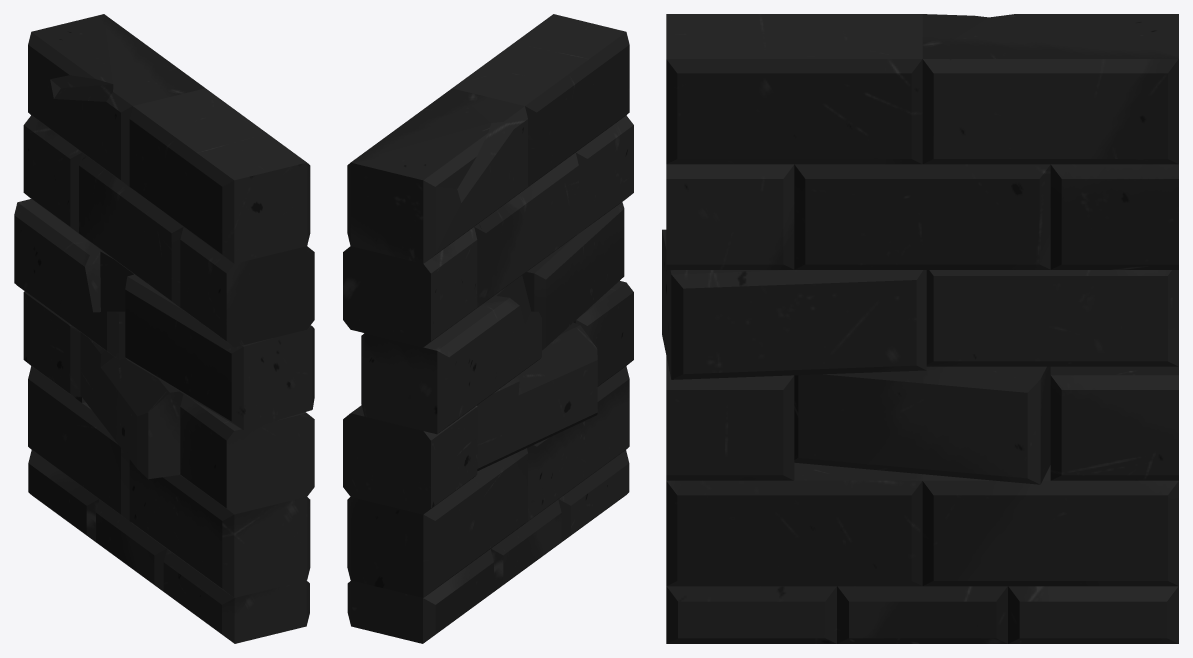
The model's file is gen_wall_7.fbx.
3 renders of one model, left to right at view 1: azimuth 30°, elevation 25°; view 2: azimuth 150°, elevation 25°; view 3: azimuth 270°, elevation 25°, orthographic. The views are drawn at different scales.
Visible parts, largest first — view 1: gen_wall_7; view 2: gen_wall_7; view 3: gen_wall_7.
Part boxes in pixels (bbox=[...]): gen_wall_7: bbox=[14, 14, 314, 643]; gen_wall_7: bbox=[343, 14, 633, 643]; gen_wall_7: bbox=[662, 14, 1178, 643].
Bounding box in the file's own units: 276 × 1010 × 806.
